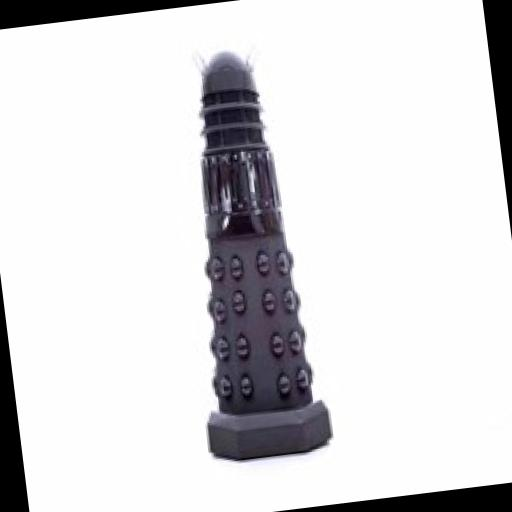dalek: (157, 36, 340, 466)
